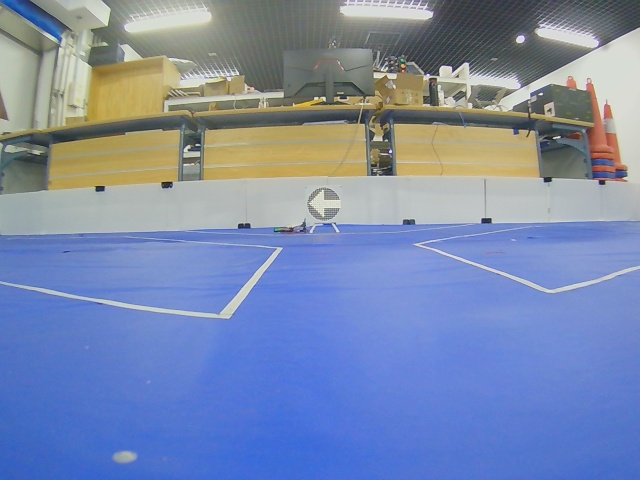left_yellow: (307, 187, 341, 221)
